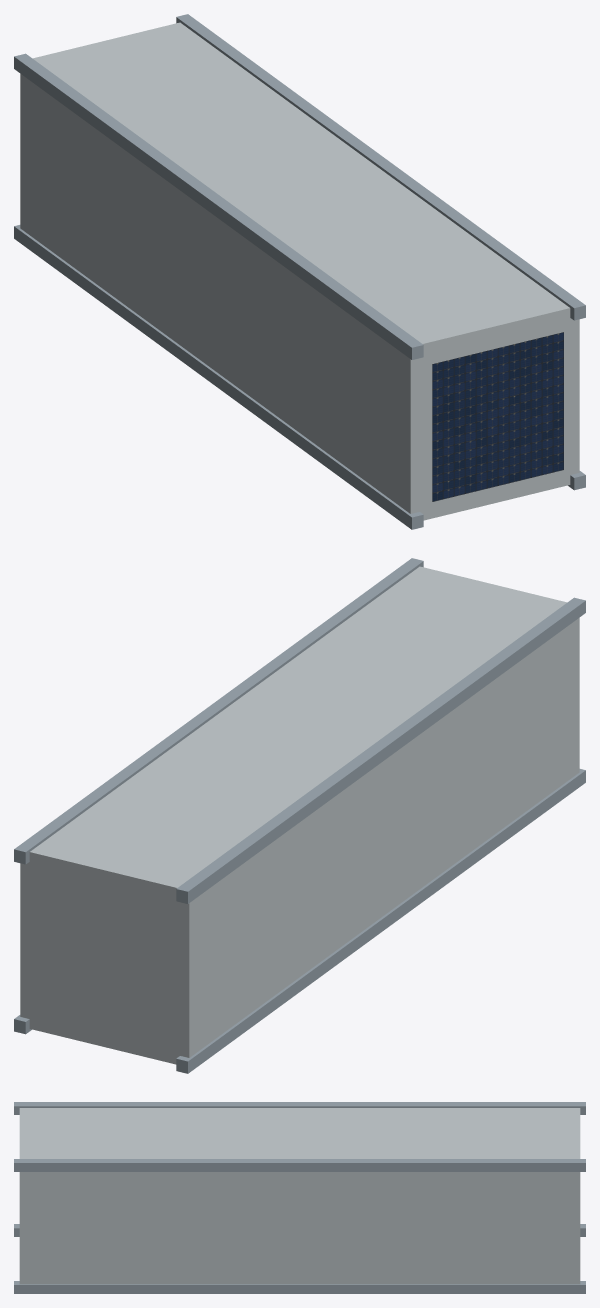
The model's file is ref-cubesat-1x4u-63153.glb.
3 views of the same model, one above another, from view 1: azimuth 30°, elevation 25°; view 2: azimuth 150°, elevation 25°; view 3: azimuth 270°, elevation 25° (orthographic). The views are drawn at different scales.
Parts seen in each view (by area): view 1: Spacecraft body, Dispenser rail (×3), Body-mounted cells; view 2: Spacecraft body, Dispenser rail (×3); view 3: Spacecraft body, Dispenser rail (×3).
Part boxes in pixels (x1,y1,x2,y2): Spacecraft body: [20, 22, 579, 520]; Dispenser rail (×3): [14, 14, 585, 529]; Body-mounted cells: [432, 332, 563, 501]; Spacecraft body: [20, 566, 579, 1064]; Dispenser rail (×3): [14, 558, 585, 1073]; Spacecraft body: [19, 1108, 580, 1284]; Dispenser rail (×3): [14, 1102, 585, 1293].
Bounding box in the file's own units: 0.103 × 0.103 × 0.408.
Materials: 3 (1 with a texture image).
